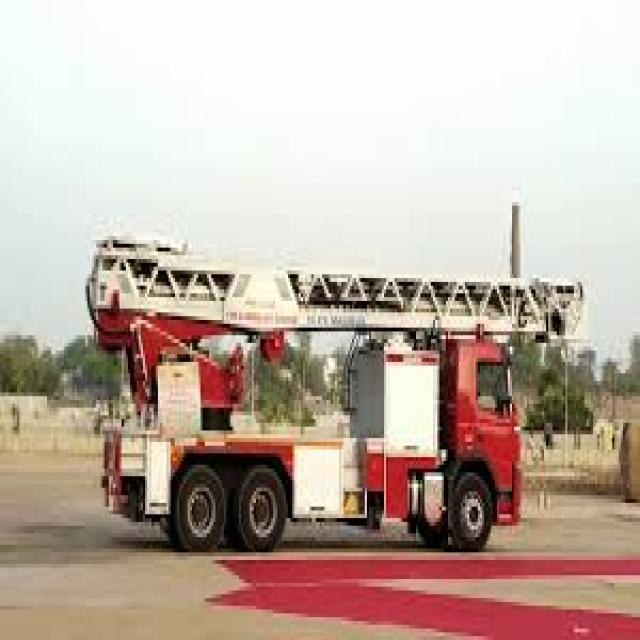Fire_brigade: (79, 114, 589, 606)
